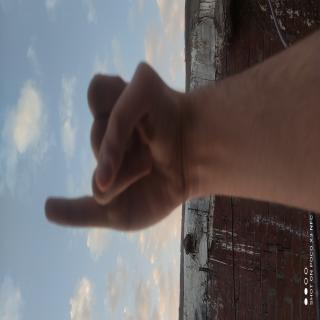MEEM: (37, 81, 119, 320)
